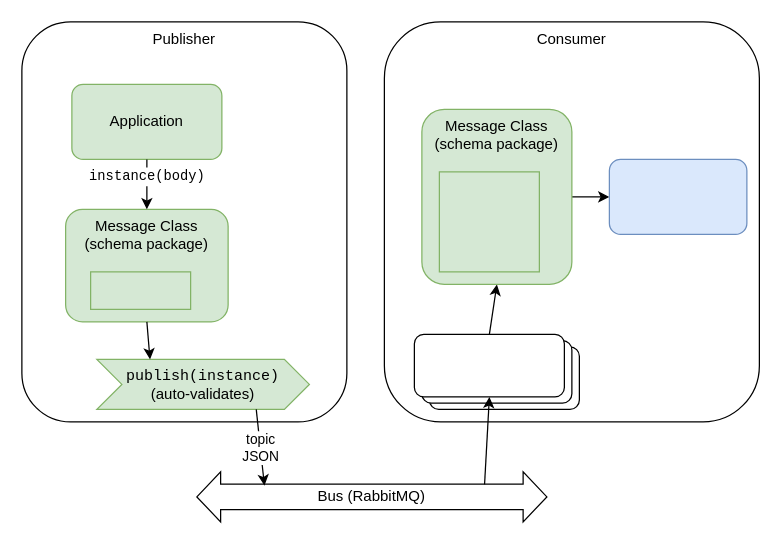
This 781x544 diagram has some shape labels left out. The centre of each missing label's shape, as x and y in pixels:
"- summary - __str__ - agent - usernames - …" belongs at (488,221).
"- topic - JSON schema" belongs at (140,290).
"Callback (class or function)" belongs at (677,196).
"Fedora Messaging Consumer" belongs at (488,365).
